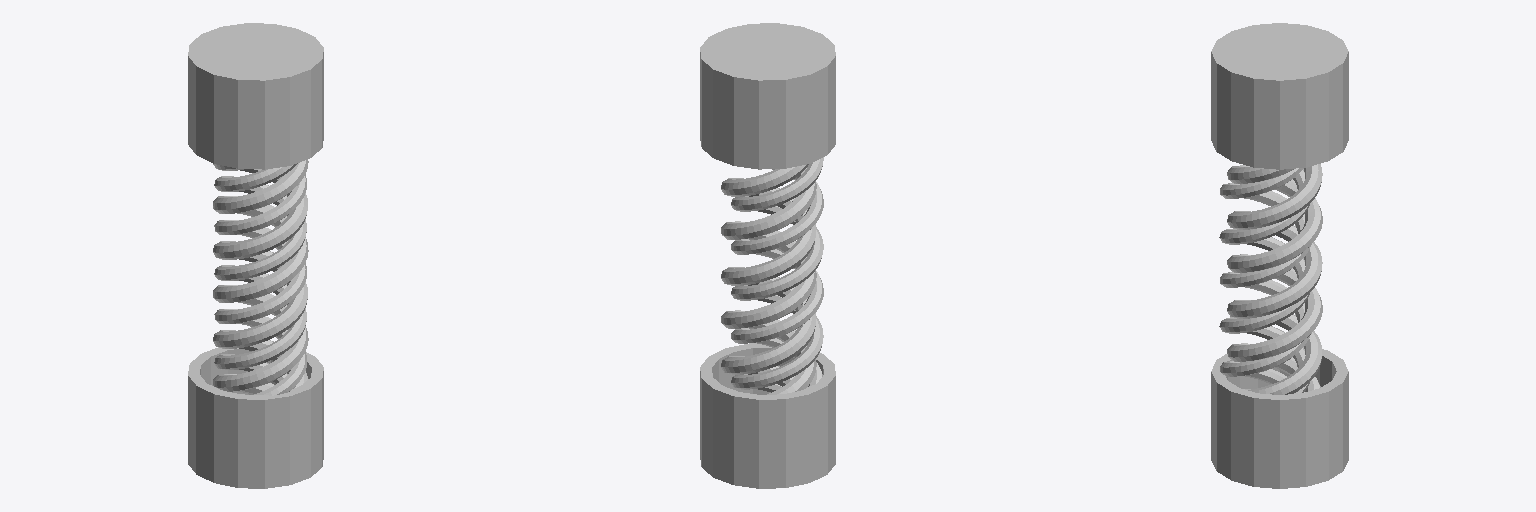
Rendered from tubo3.obj.
3 renders of one model, left to right at view 1: azimuth 30°, elevation 25°; view 2: azimuth 150°, elevation 25°; view 3: azimuth 270°, elevation 25°, orthographic.
Parts seen in each view (by area): view 1: pasted__pasted__tubo4 pasted__tubo7 group6 tubo8:Cap, pasted__pasted__tubo4 pasted__tubo7 group6 tubo8:Spiral_Glass, pasted__pasted__tubo4 pasted__tubo7 group6 tubo8:Cap_High_Poly, tubo8:Spiral pasted__pasted__tubo4 pasted__tubo7 group6; view 2: pasted__pasted__tubo4 pasted__tubo7 group6 tubo8:Cap, pasted__pasted__tubo4 pasted__tubo7 group6 tubo8:Spiral_Glass, pasted__pasted__tubo4 pasted__tubo7 group6 tubo8:Cap_High_Poly, tubo8:Spiral pasted__pasted__tubo4 pasted__tubo7 group6; view 3: pasted__pasted__tubo4 pasted__tubo7 group6 tubo8:Cap, pasted__pasted__tubo4 pasted__tubo7 group6 tubo8:Spiral_Glass, pasted__pasted__tubo4 pasted__tubo7 group6 tubo8:Cap_High_Poly, tubo8:Spiral pasted__pasted__tubo4 pasted__tubo7 group6.
Boxes of the visible parts, x1,y1,x2,y2 form: pasted__pasted__tubo4 pasted__tubo7 group6 tubo8:Cap: [188, 23, 323, 488]; pasted__pasted__tubo4 pasted__tubo7 group6 tubo8:Spiral_Glass: [213, 160, 308, 394]; pasted__pasted__tubo4 pasted__tubo7 group6 tubo8:Cap_High_Poly: [188, 23, 323, 488]; tubo8:Spiral pasted__pasted__tubo4 pasted__tubo7 group6: [214, 163, 306, 395]; pasted__pasted__tubo4 pasted__tubo7 group6 tubo8:Cap: [700, 23, 835, 488]; pasted__pasted__tubo4 pasted__tubo7 group6 tubo8:Spiral_Glass: [721, 164, 816, 394]; pasted__pasted__tubo4 pasted__tubo7 group6 tubo8:Cap_High_Poly: [700, 23, 835, 488]; tubo8:Spiral pasted__pasted__tubo4 pasted__tubo7 group6: [731, 157, 823, 392]; pasted__pasted__tubo4 pasted__tubo7 group6 tubo8:Cap: [1211, 23, 1348, 488]; pasted__pasted__tubo4 pasted__tubo7 group6 tubo8:Spiral_Glass: [1227, 164, 1322, 394]; pasted__pasted__tubo4 pasted__tubo7 group6 tubo8:Cap_High_Poly: [1211, 23, 1348, 488]; tubo8:Spiral pasted__pasted__tubo4 pasted__tubo7 group6: [1219, 168, 1310, 393].
Bounding box in the file's own units: 0.0888 × 0.291 × 0.0888.